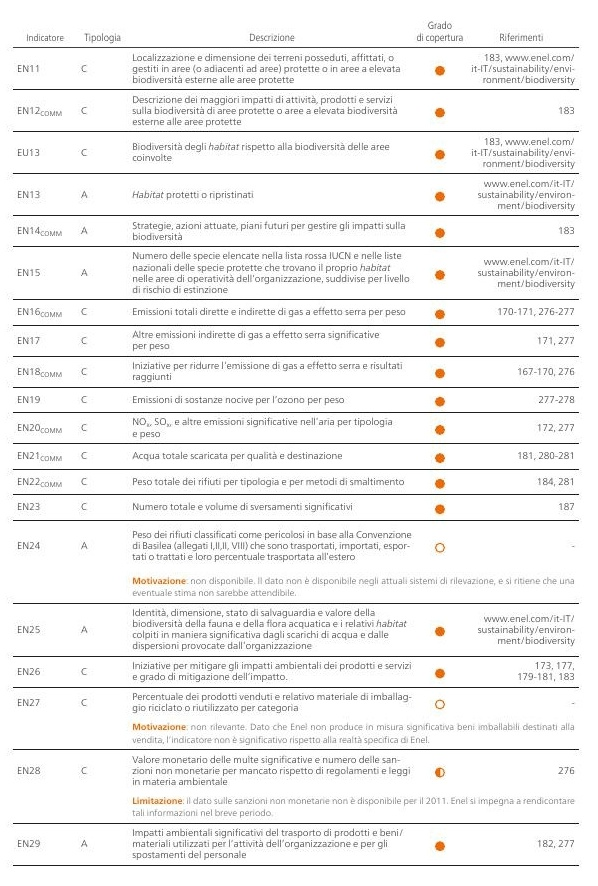table: (0, 0, 598, 886)
